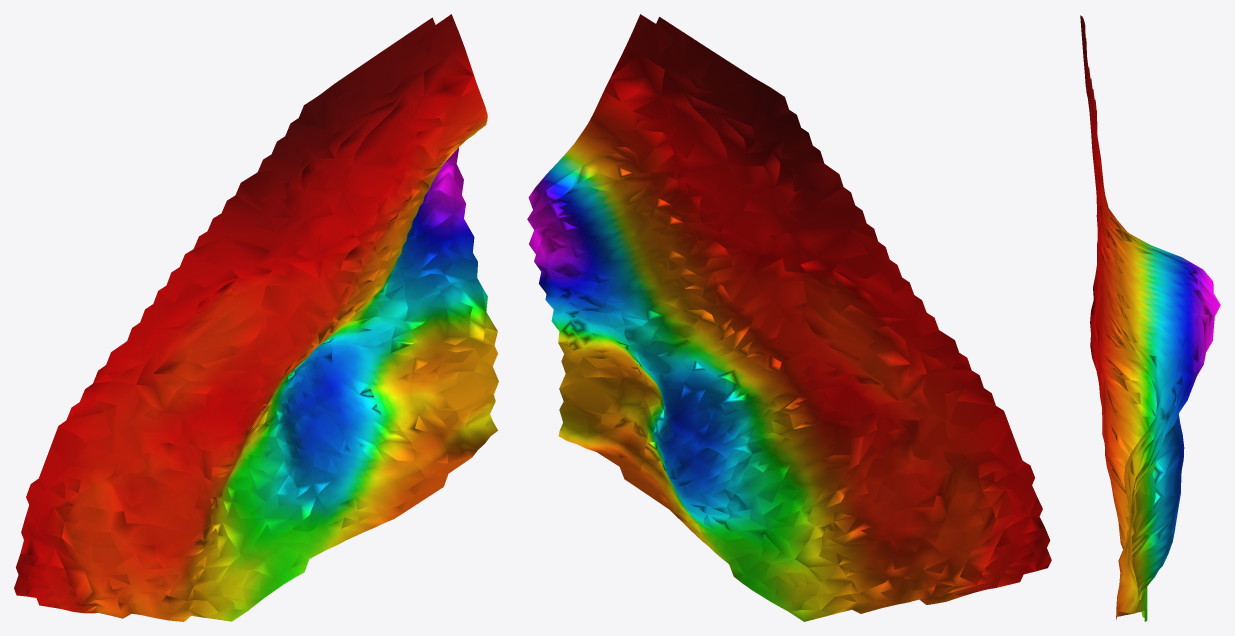
Rendered from Topo_Maastrichtiano_cubo.glb.
The picture shows the model from 3 angles, left to right: view 1: azimuth 30°, elevation 25°; view 2: azimuth 150°, elevation 25°; view 3: azimuth 270°, elevation 25°; orthographic projection. The views are drawn at different scales.
Parts seen in each view (by area): view 1: Surface; view 2: Surface; view 3: Surface.
Part boxes in pixels (box(x1,y1,x2,y2)): Surface: box(14, 14, 498, 621); Surface: box(527, 14, 1051, 621); Surface: box(1080, 15, 1220, 621).
Bounding box in the file's own units: 143018 × 157326 × 28882.
1 material, 1 textured.
